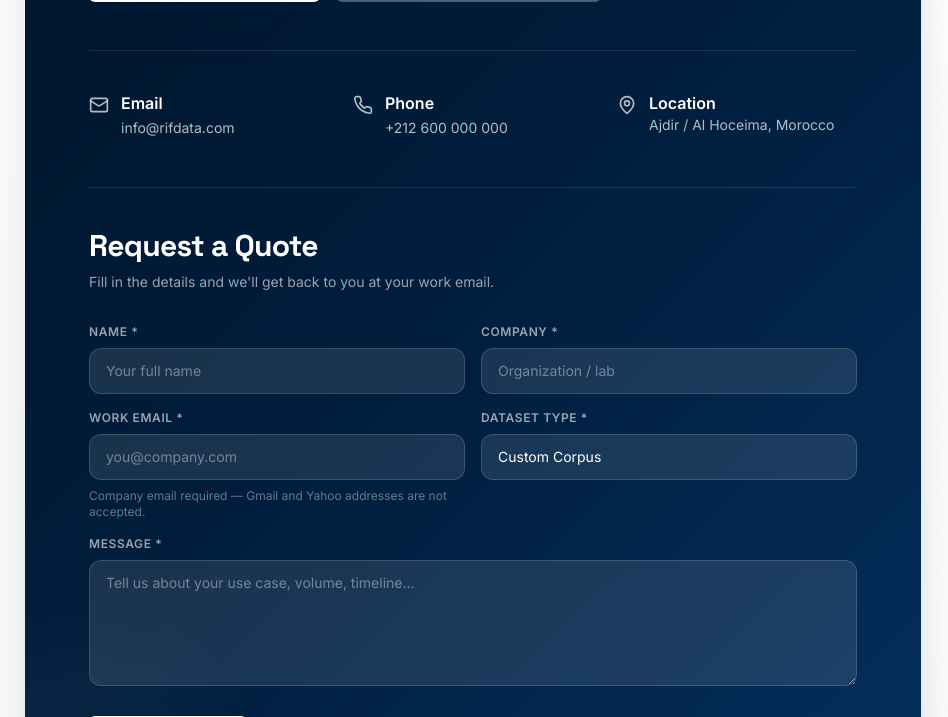
Test: Contact quote form › rejects Gmail addresses before anything is sent
(page scrolled)
Type "Kamal Hohoud" into the field labelled "Name *" at (277, 371), box top-left (89, 348), bottom-right (465, 394)
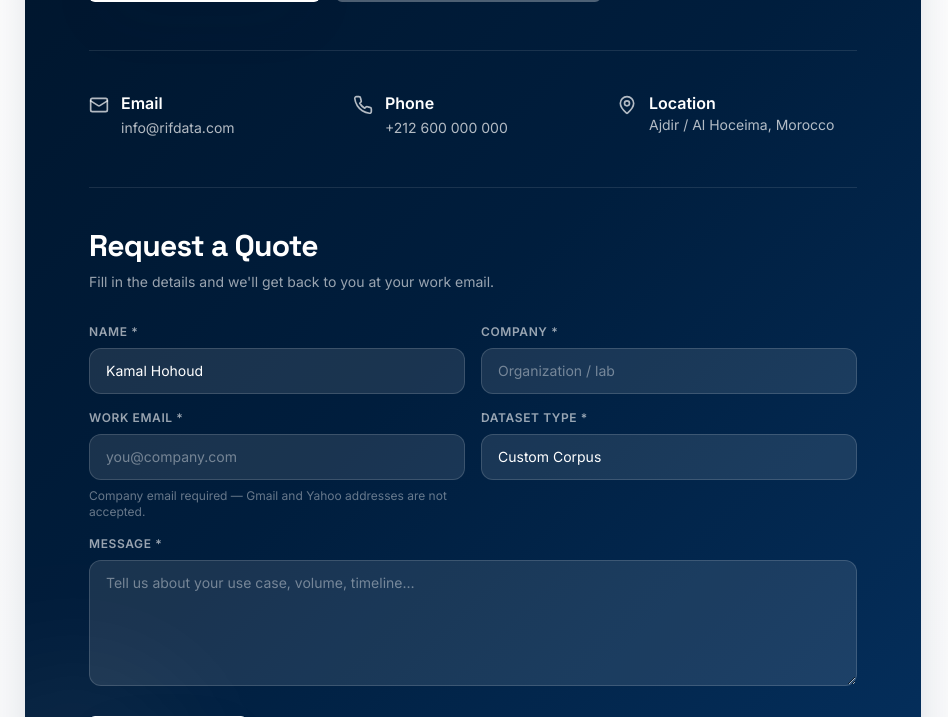
Type "Acme Labs" into the field labelled "Company *" at (669, 371), box top-left (481, 348), bottom-right (857, 394)
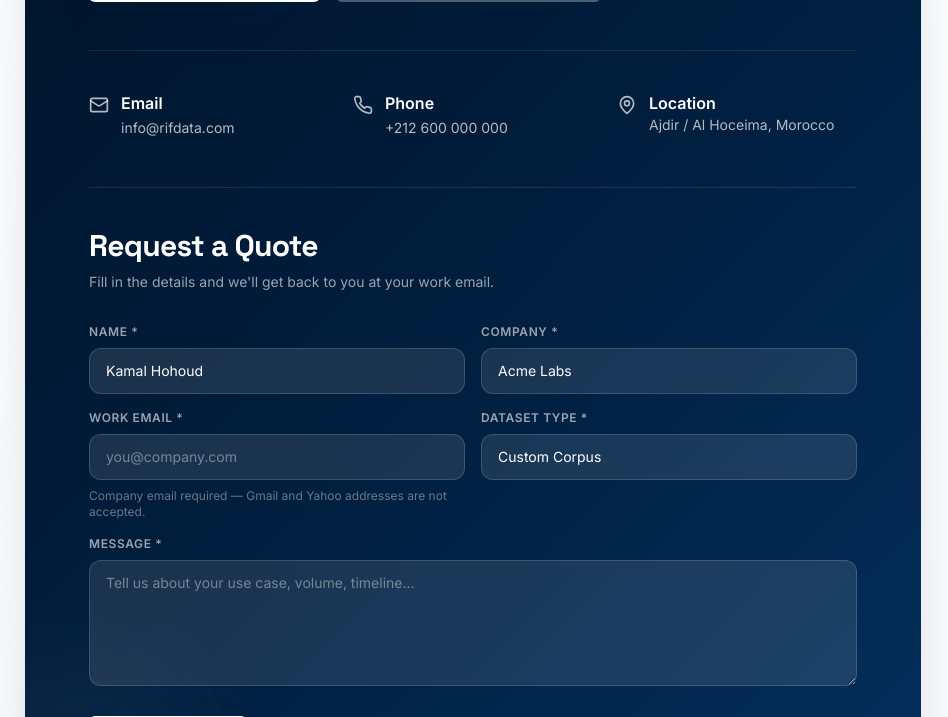
Type "kamal@gmail.com" into the field labelled "Work Email *" at (277, 457), box top-left (89, 434), bottom-right (465, 480)
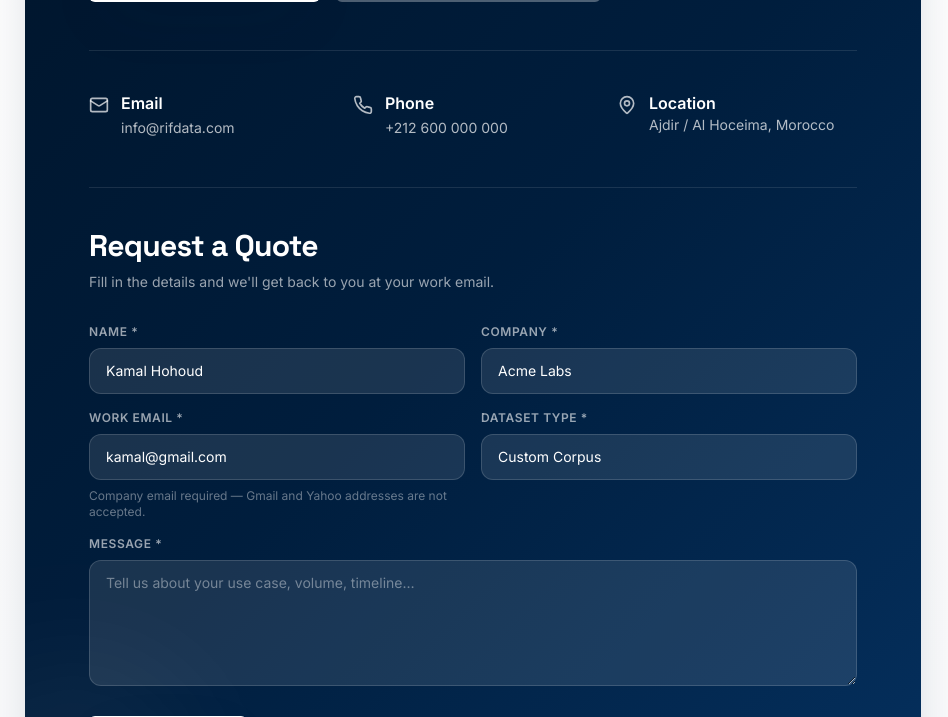
Type "We need Darija speech data." into the text box labelled "Message *" at (473, 623), box top-left (89, 560), bottom-right (857, 686)
(page scrolled)
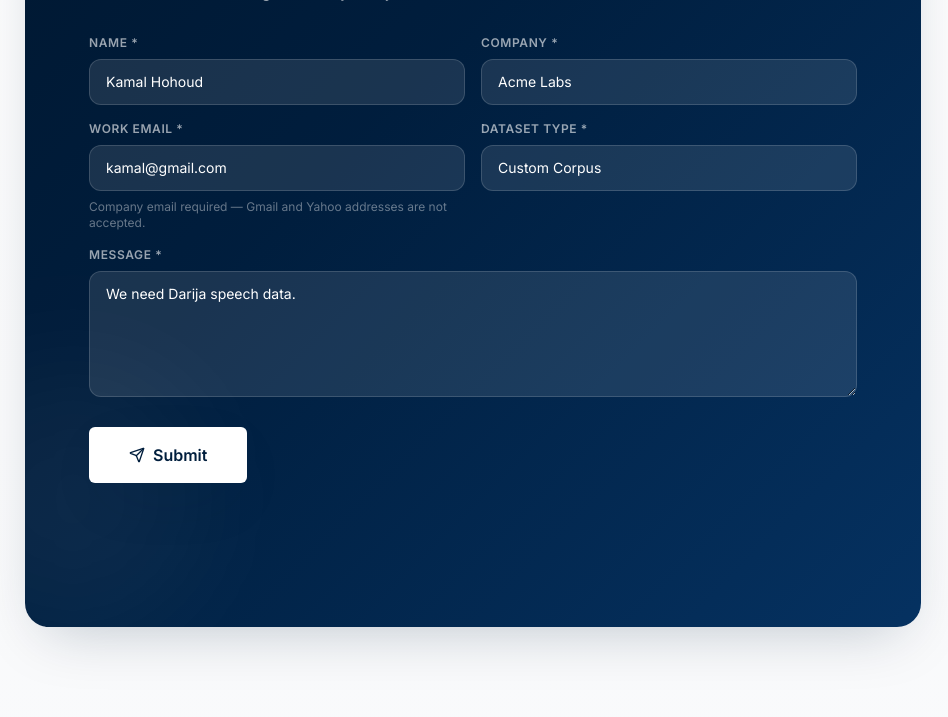
Click the button "Submit" at (168, 455), box top-left (89, 427), bottom-right (247, 483)
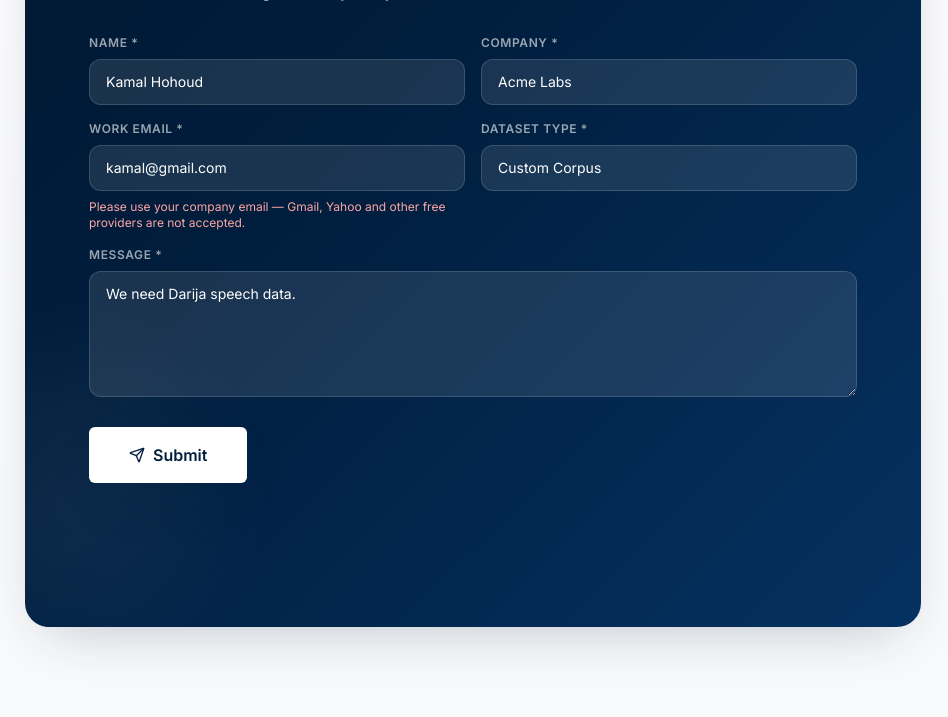
Expected: the text "thank you! your request has been sent successfully" is not shown
Expected: the text "Gmail, Yahoo and other free providers are not accepted" is shown, top-left (89, 199), bottom-right (445, 230)
